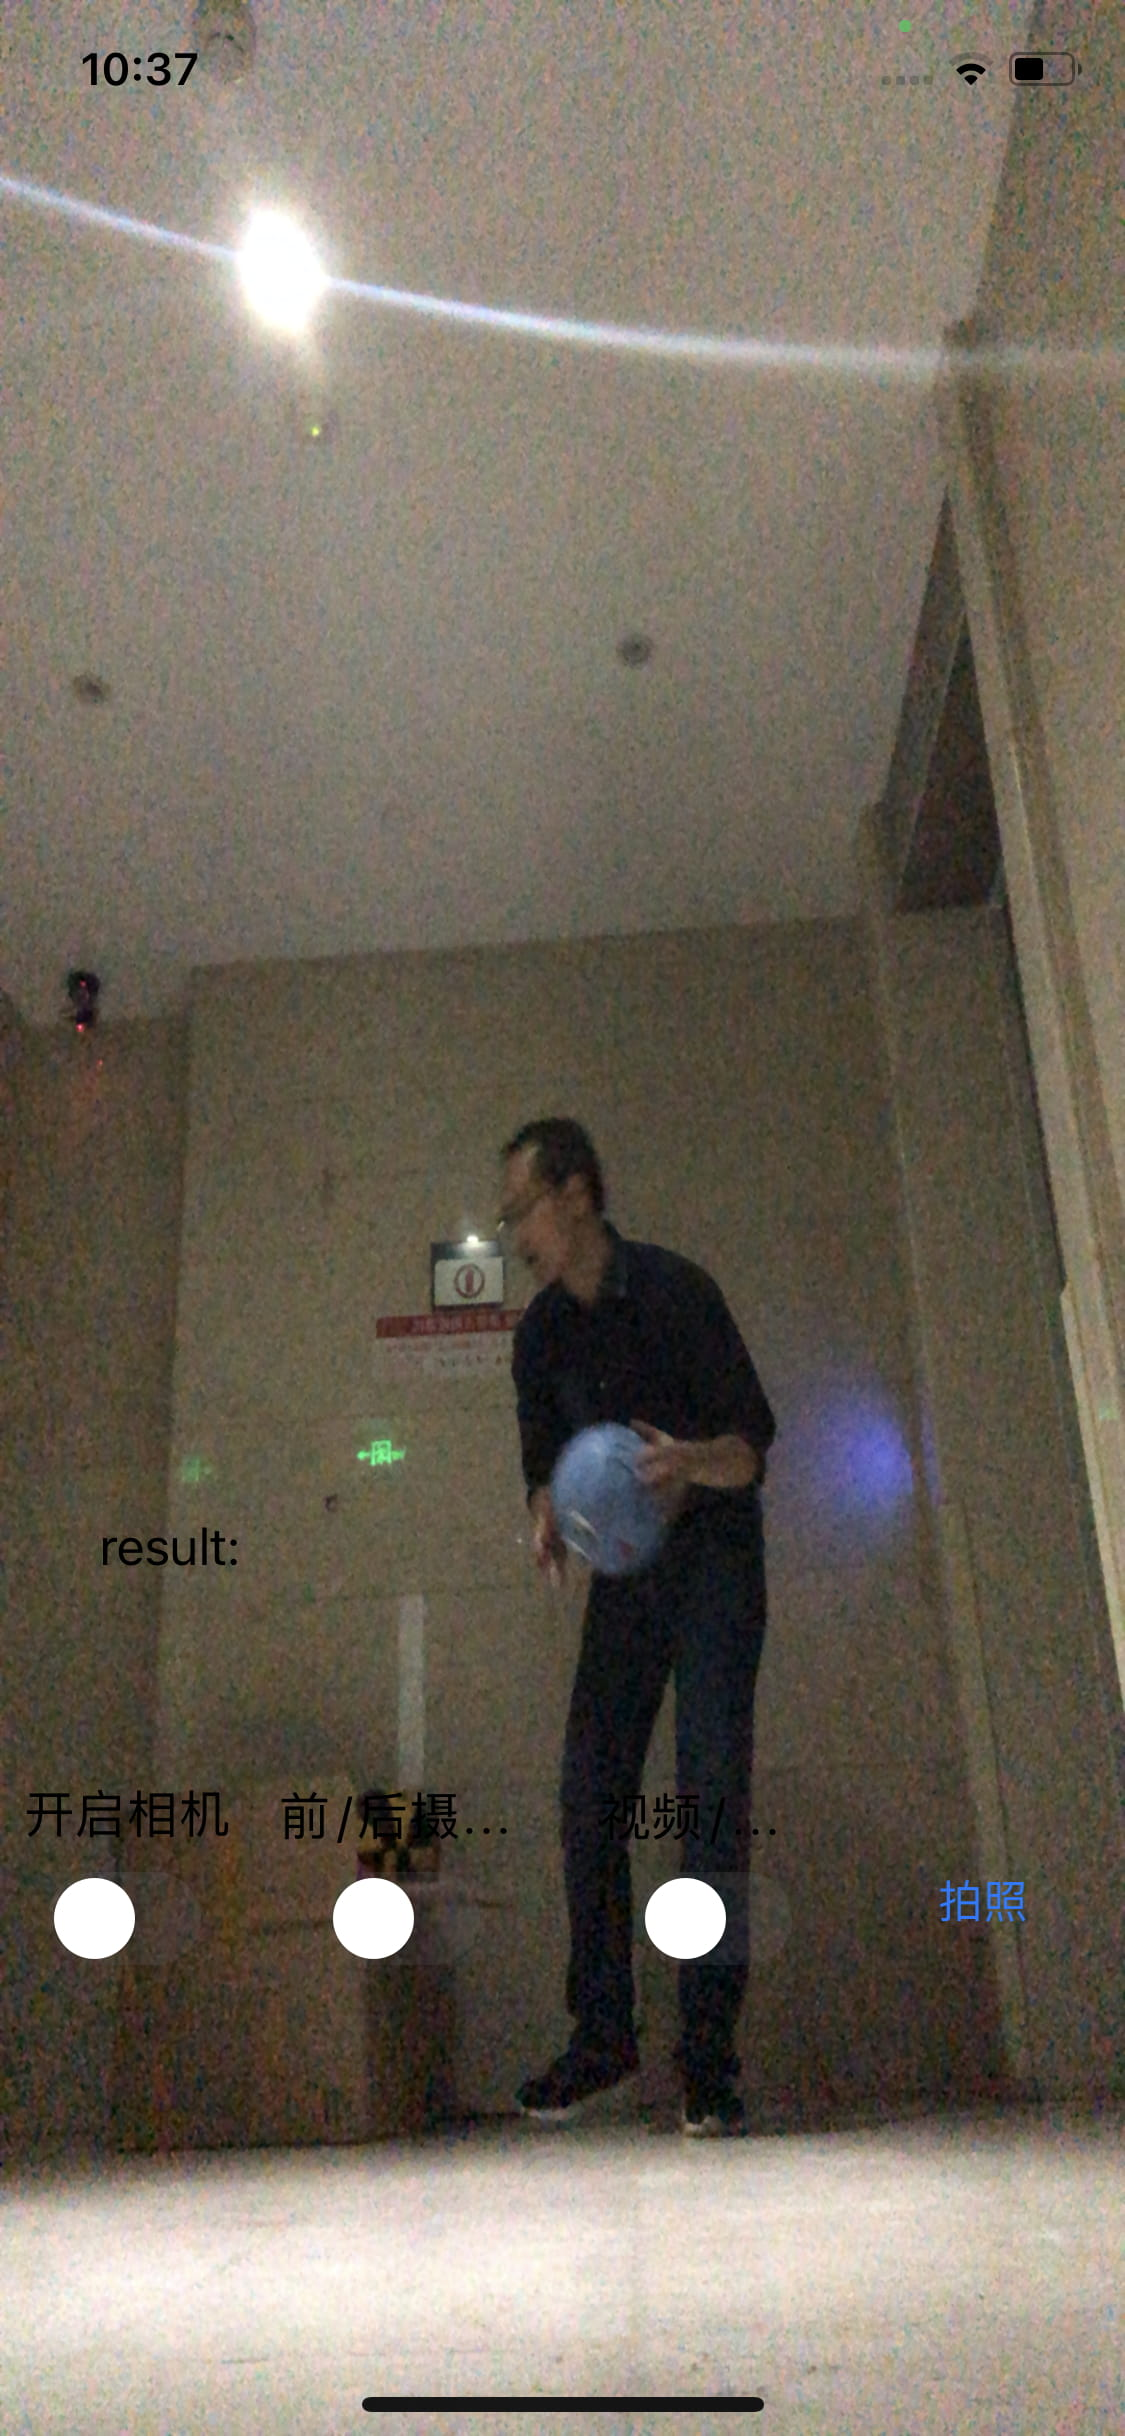ball: (555, 1423, 674, 1578)
